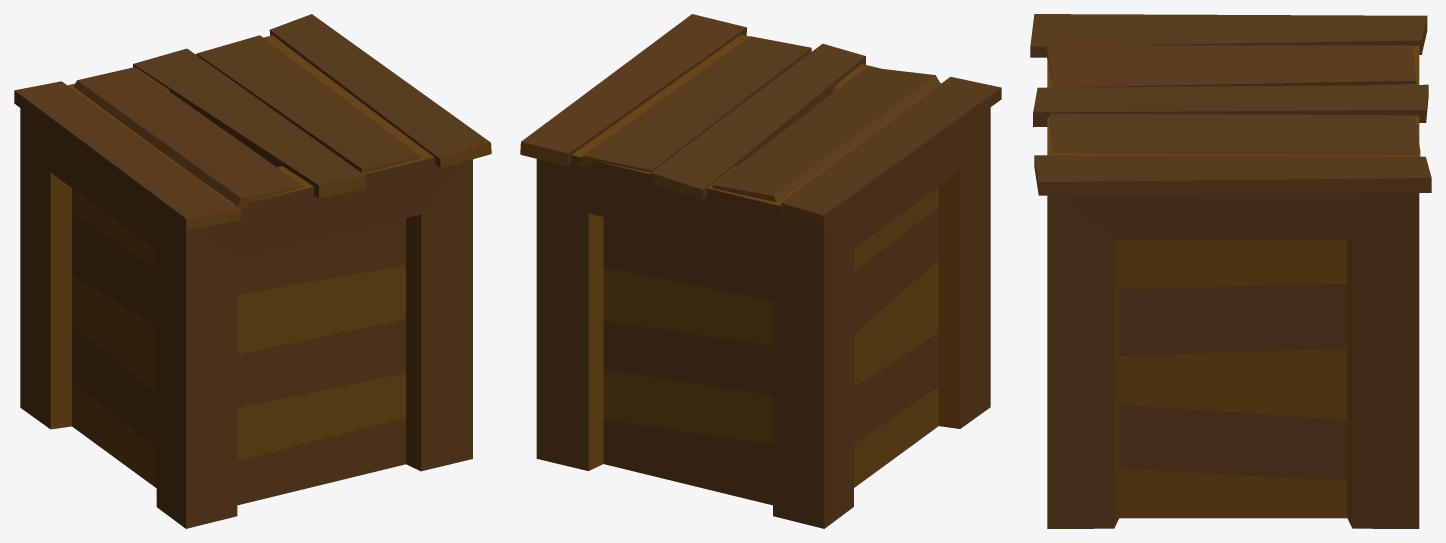
File: Crate.glb
3 views of the same model, side by side, from view 1: azimuth 30°, elevation 25°; view 2: azimuth 150°, elevation 25°; view 3: azimuth 270°, elevation 25° (orthographic). The views are drawn at different scales.
Parts seen in each view (by area): view 1: Cube.013, Cube.017, Cube.018, Cube.015, Cube.014, Cube.016; view 2: Cube.013, Cube.017, Cube.018, Cube.015, Cube.014, Cube.016; view 3: Cube.013, Cube.016, Cube.017, Cube.015, Cube.018, Cube.014.
Boxes of the visible parts, x1,y1,x2,y2 form: Cube.013: (20, 35, 472, 528); Cube.017: (73, 67, 303, 209); Cube.018: (14, 81, 240, 230); Cube.015: (196, 35, 421, 173); Cube.014: (133, 48, 365, 198); Cube.016: (269, 14, 491, 168); Cube.013: (536, 34, 990, 528); Cube.017: (712, 67, 939, 202); Cube.018: (781, 76, 1001, 228); Cube.015: (577, 36, 811, 172); Cube.014: (651, 43, 865, 199); Cube.016: (520, 14, 746, 166); Cube.013: (1047, 45, 1419, 528); Cube.016: (1034, 155, 1431, 195); Cube.017: (1046, 45, 1416, 87); Cube.015: (1050, 113, 1420, 156); Cube.018: (1030, 14, 1427, 57); Cube.014: (1033, 84, 1428, 126).
Size of the model in its own units: 0.9997 by 0.9865 by 1.01.
